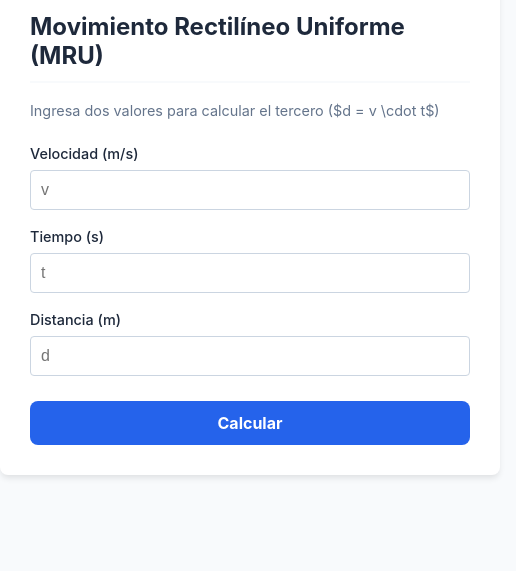
it: MRU Component › should calculate Distance correctly (v * t)
Step 1. Type "10" into the number field labelled "Velocidad (m/s)" → (250, 190), box [30,170,470,210]
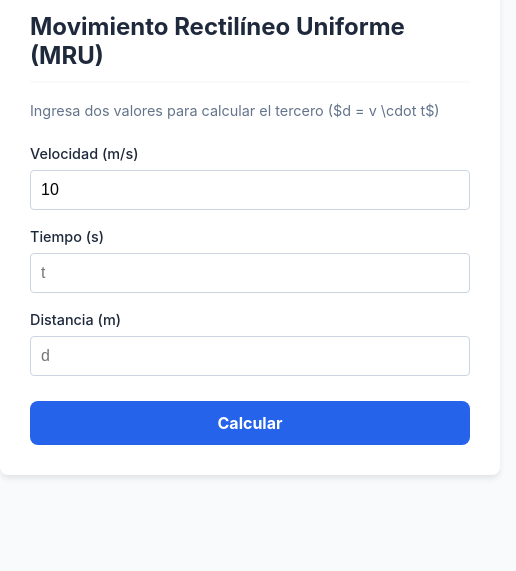
Step 2. Type "5" into the number field labelled "Tiempo (s)" → (250, 273), box [30,253,470,293]
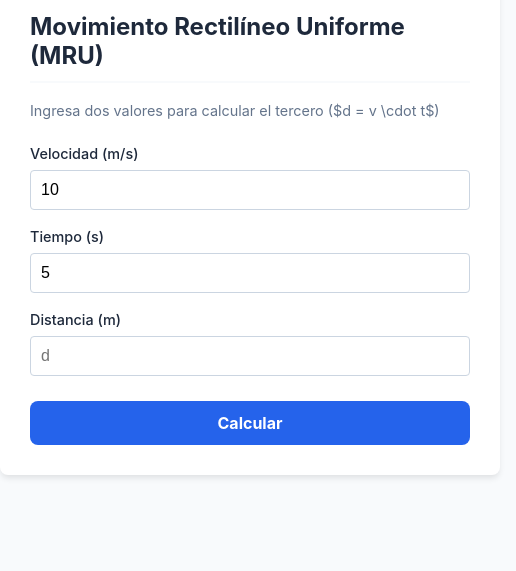
Step 3. Click the button "Calcular" → (250, 423), box [30,401,470,445]
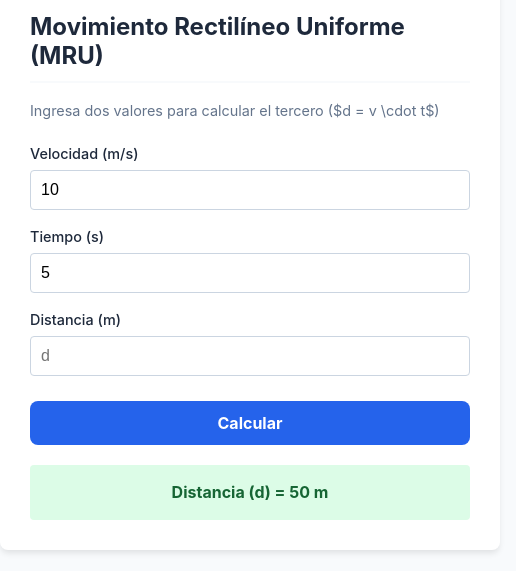
Now the text "Distancia (d) = 50 m" is shown, box [30,465,470,520]
